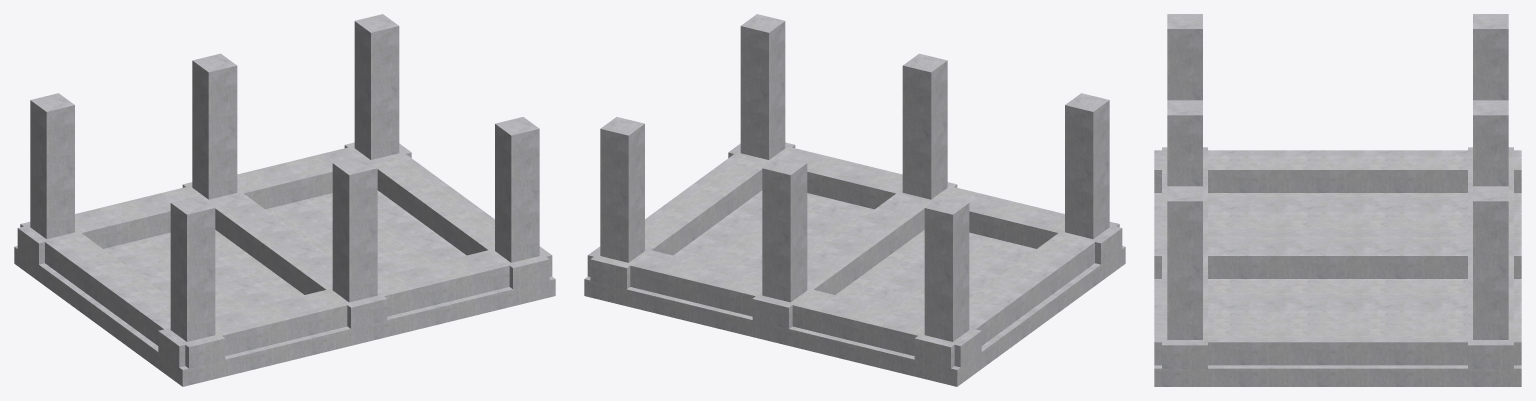
Rendered from beam-slab.glb.
The picture shows the model from 3 angles, left to right: view 1: azimuth 30°, elevation 25°; view 2: azimuth 150°, elevation 25°; view 3: azimuth 270°, elevation 25°; orthographic projection. The views are drawn at different scales.
Parts seen in each view (by area): view 1: 梁, 柱, 板; view 2: 梁, 柱, 板; view 3: 梁, 板, 柱.
Part boxes in pixels (<box>): 梁: <box>17,142,552,368</box>; 柱: <box>30,14,539,341</box>; 板: <box>14,190,555,386</box>; 梁: <box>587,142,1122,368</box>; 柱: <box>600,14,1109,341</box>; 板: <box>584,190,1125,386</box>; 梁: <box>1154,147,1521,368</box>; 板: <box>1154,193,1521,386</box>; 柱: <box>1167,14,1508,339</box>.
Size of the model in its own units: 9.2 by 3.9 by 7.2.
3 materials, 3 textured.
